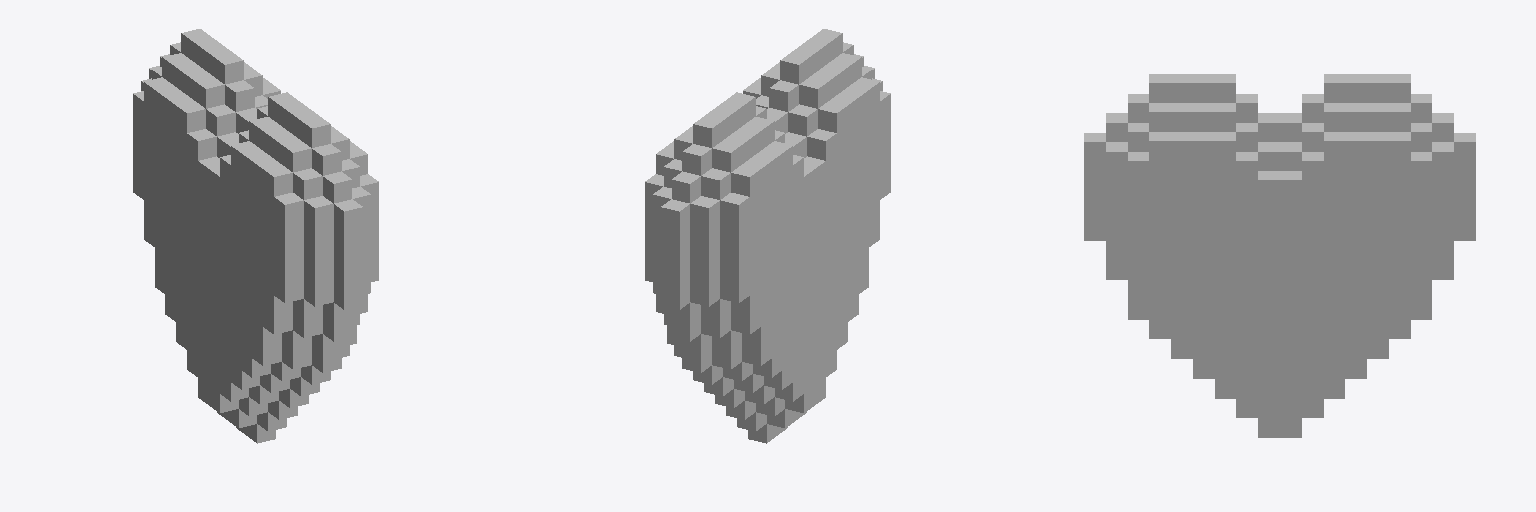
File: heart.obj
3 renders of one model, left to right at view 1: azimuth 30°, elevation 25°; view 2: azimuth 150°, elevation 25°; view 3: azimuth 270°, elevation 25°, orthographic.
Visible parts, largest first — view 1: Chunk_1x1x1, Chunk_1x2x1, Chunk_1x1x0; view 2: Chunk_1x1x1, Chunk_1x2x1, Chunk_1x1x2; view 3: Chunk_1x1x1, Chunk_1x2x1, Chunk_1x1x0, Chunk_1x1x2.
Part boxes in pixels (left/top/right/bottom): Chunk_1x1x1: left=133, top=42, right=378, bottom=431; Chunk_1x2x1: left=181, top=29, right=330, bottom=147; Chunk_1x1x0: left=334, top=199, right=362, bottom=309; Chunk_1x1x1: left=645, top=42, right=890, bottom=431; Chunk_1x2x1: left=693, top=29, right=842, bottom=147; Chunk_1x1x2: left=661, top=199, right=689, bottom=309; Chunk_1x1x1: left=1106, top=94, right=1453, bottom=426; Chunk_1x2x1: left=1149, top=74, right=1410, bottom=102; Chunk_1x1x0: left=1084, top=133, right=1105, bottom=240; Chunk_1x1x2: left=1454, top=133, right=1475, bottom=240.
Size of the model in its own units: 5 by 18 by 18.